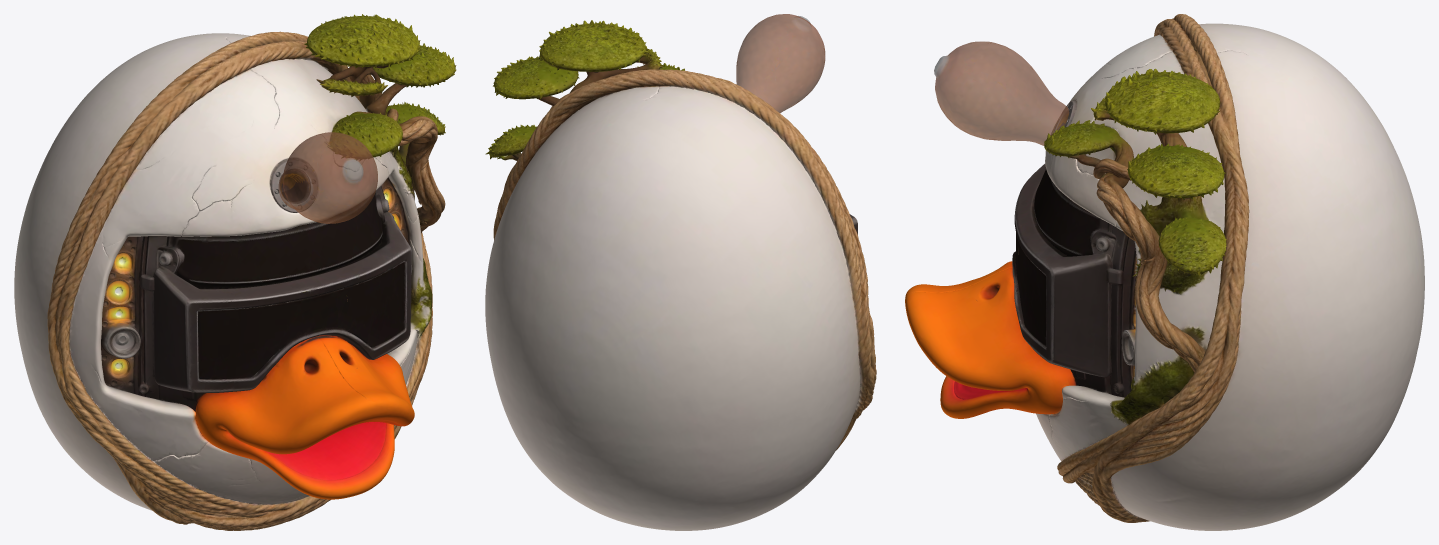
The model's file is duckybulbywaterhorn.glb.
3 views of the same model, side by side, from view 1: azimuth 30°, elevation 25°; view 2: azimuth 150°, elevation 25°; view 3: azimuth 270°, elevation 25° (orthographic). The views are drawn at different scales.
Visible parts, largest first — view 1: duckybulbywaterhorn, bulb; view 2: duckybulbywaterhorn, bulb; view 3: duckybulbywaterhorn, bulb.
Part boxes in pixels (x1,y1,x2,y2): duckybulbywaterhorn: (14,14,456,530); bulb: (278,132,377,223); duckybulbywaterhorn: (485,20,876,530); bulb: (736,14,825,112); duckybulbywaterhorn: (905,14,1424,530); bulb: (934,41,1069,145).
Size of the model in its own units: 1.64 by 1.83 by 1.77.
Materials: 4 (4 with a texture image).
